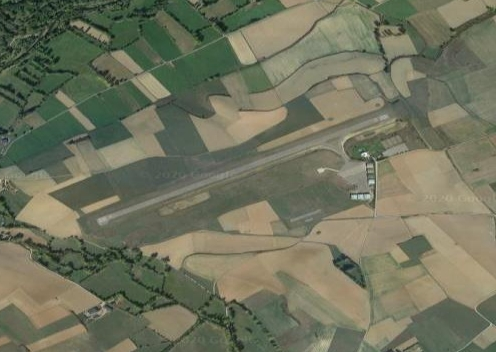airport: (95, 112, 392, 228)
